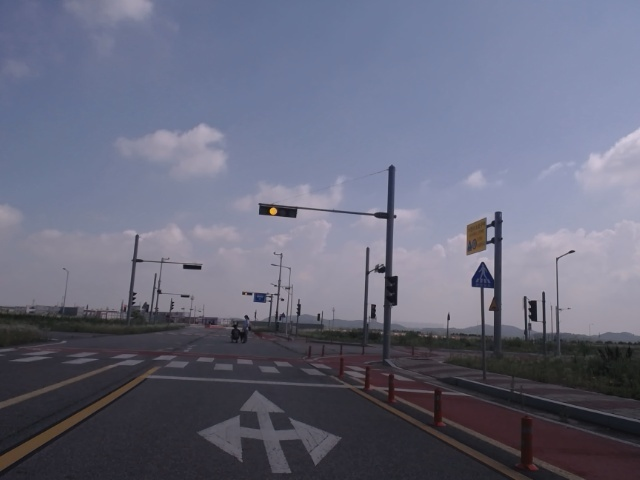orange_4: (258, 203, 296, 217)
